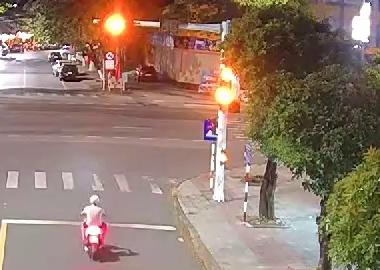stop_line: (2, 216, 186, 233)
yellow_light: (102, 11, 127, 38), (214, 87, 234, 103), (219, 66, 235, 82)
